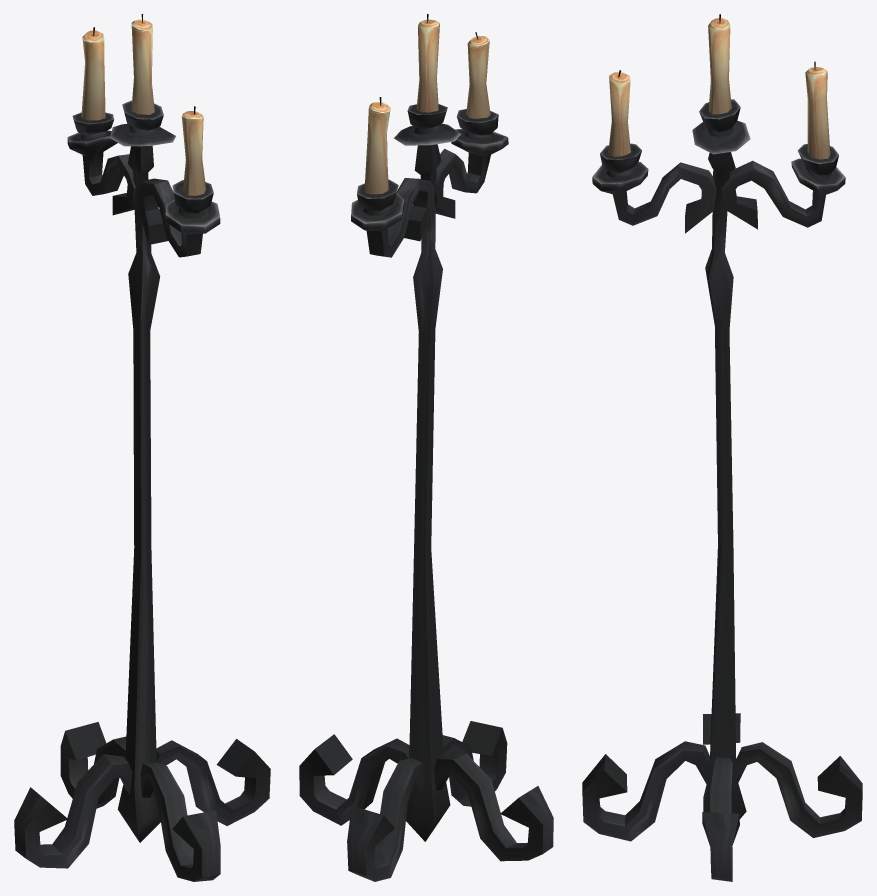
Rendered from SM_PROP_candle_dungeon_13.fbx.
3 views of the same model, side by side, from view 1: azimuth 30°, elevation 25°; view 2: azimuth 150°, elevation 25°; view 3: azimuth 270°, elevation 25° (orthographic).
Parts seen in each view (by area): view 1: SM_PROP_candle_dungeon_13; view 2: SM_PROP_candle_dungeon_13; view 3: SM_PROP_candle_dungeon_13.
Boxes of the visible parts, x1,y1,x2,y2 form: SM_PROP_candle_dungeon_13: (14,14,270,881); SM_PROP_candle_dungeon_13: (299,14,553,881); SM_PROP_candle_dungeon_13: (582,14,862,881).
Bounding box in the file's own units: 53.29 × 172 × 53.27.
